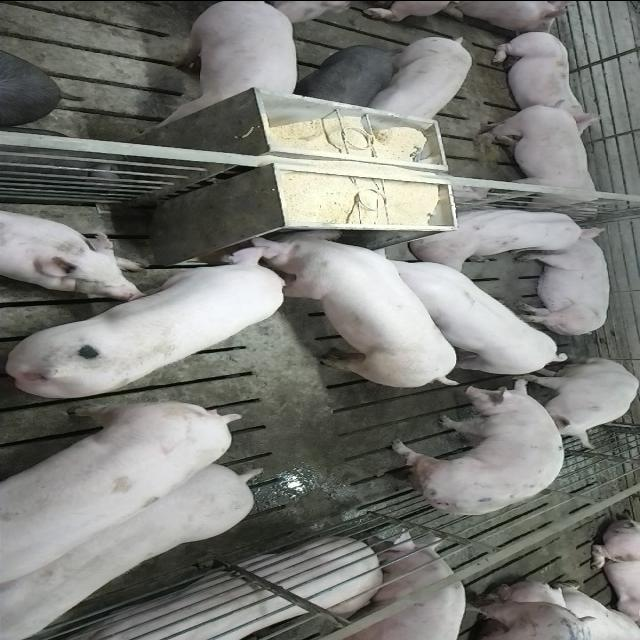Feeding: (4, 240, 290, 402), (241, 220, 465, 384)
Lateral_lying: (39, 538, 386, 640), (512, 225, 612, 338)
Standing: (0, 457, 261, 638), (352, 245, 570, 378), (383, 384, 565, 522), (142, 1, 300, 129), (468, 101, 610, 217), (334, 533, 467, 640), (511, 354, 639, 448), (366, 34, 474, 128), (296, 45, 402, 109)
Sternal_lying: (0, 205, 146, 295), (485, 28, 605, 128), (408, 203, 592, 266)
